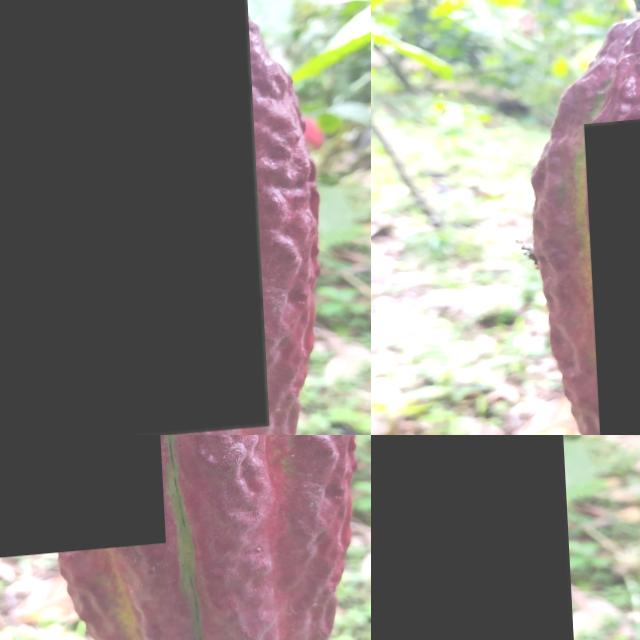Monilia: (0, 435, 160, 563)
Sana: (0, 0, 263, 435), (371, 435, 572, 640)
